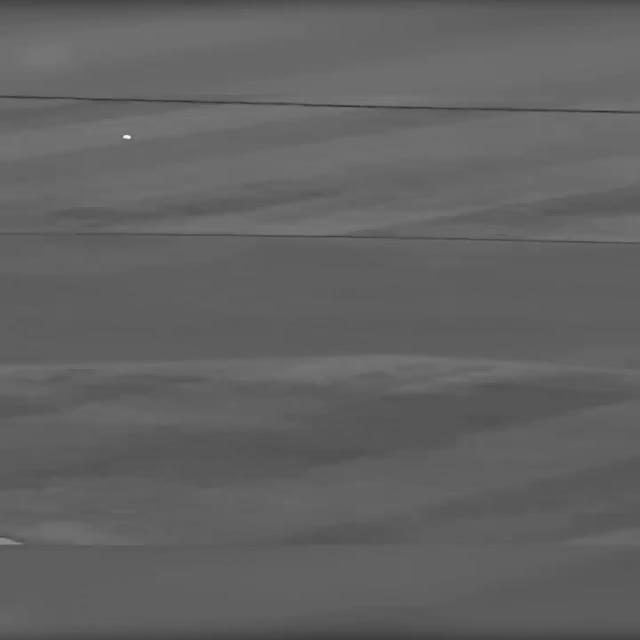baseball: (122, 134, 131, 140)
